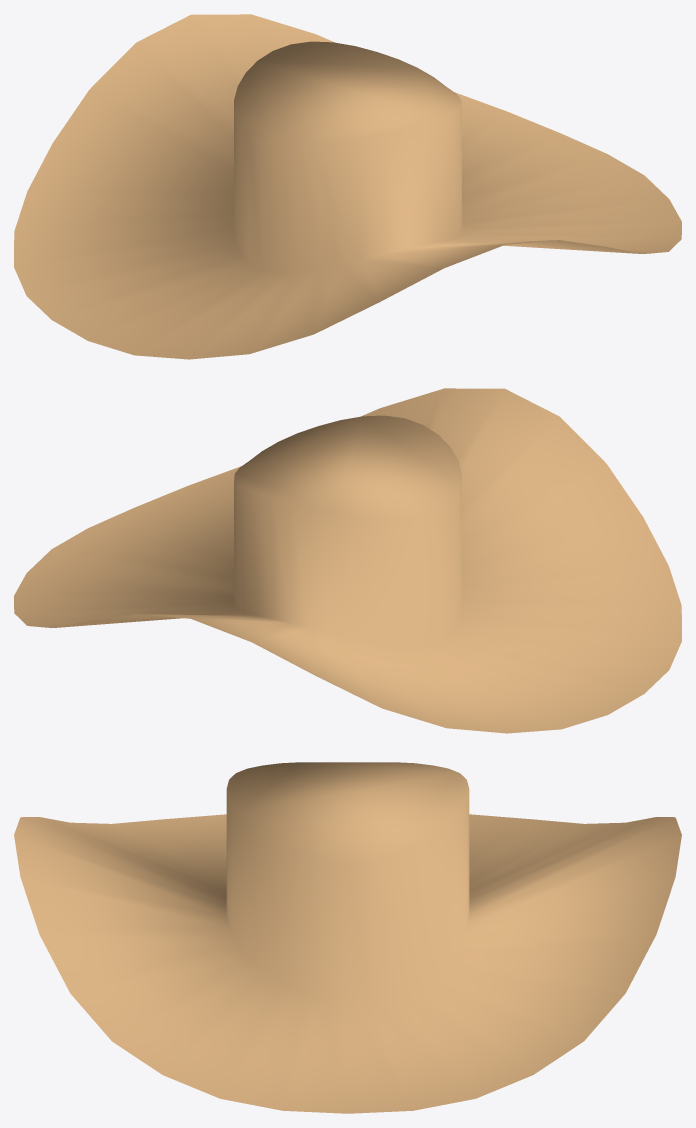
The model's file is HatCowboy.glb.
The picture shows the model from 3 angles, top to bottom: view 1: azimuth 30°, elevation 25°; view 2: azimuth 150°, elevation 25°; view 3: azimuth 270°, elevation 25°; orthographic projection. The views are drawn at different scales.
Parts seen in each view (by area): view 1: Circle; view 2: Circle; view 3: Circle.
Part boxes in pixels (x1=…): Circle: x1=14, y1=14, x2=681, y2=359; Circle: x1=14, y1=388, x2=681, y2=733; Circle: x1=14, y1=762, x2=681, y2=1113.
Size of the model in its own units: 6 by 1.56 by 5.51.
